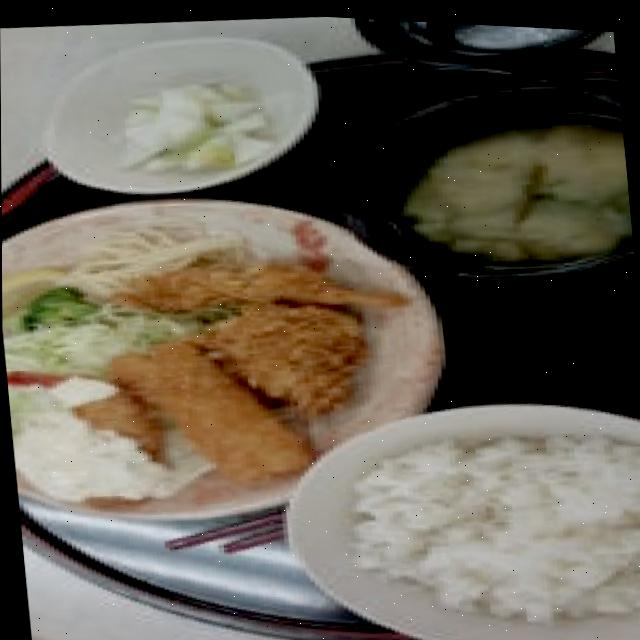汤锅炖物: (317, 61, 636, 298)
炸货点心: (106, 232, 417, 335)
熟制海鲜: (106, 232, 417, 335)
米饭主食: (261, 366, 640, 640)
